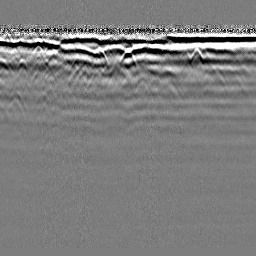cavity: (119, 46, 138, 67)
